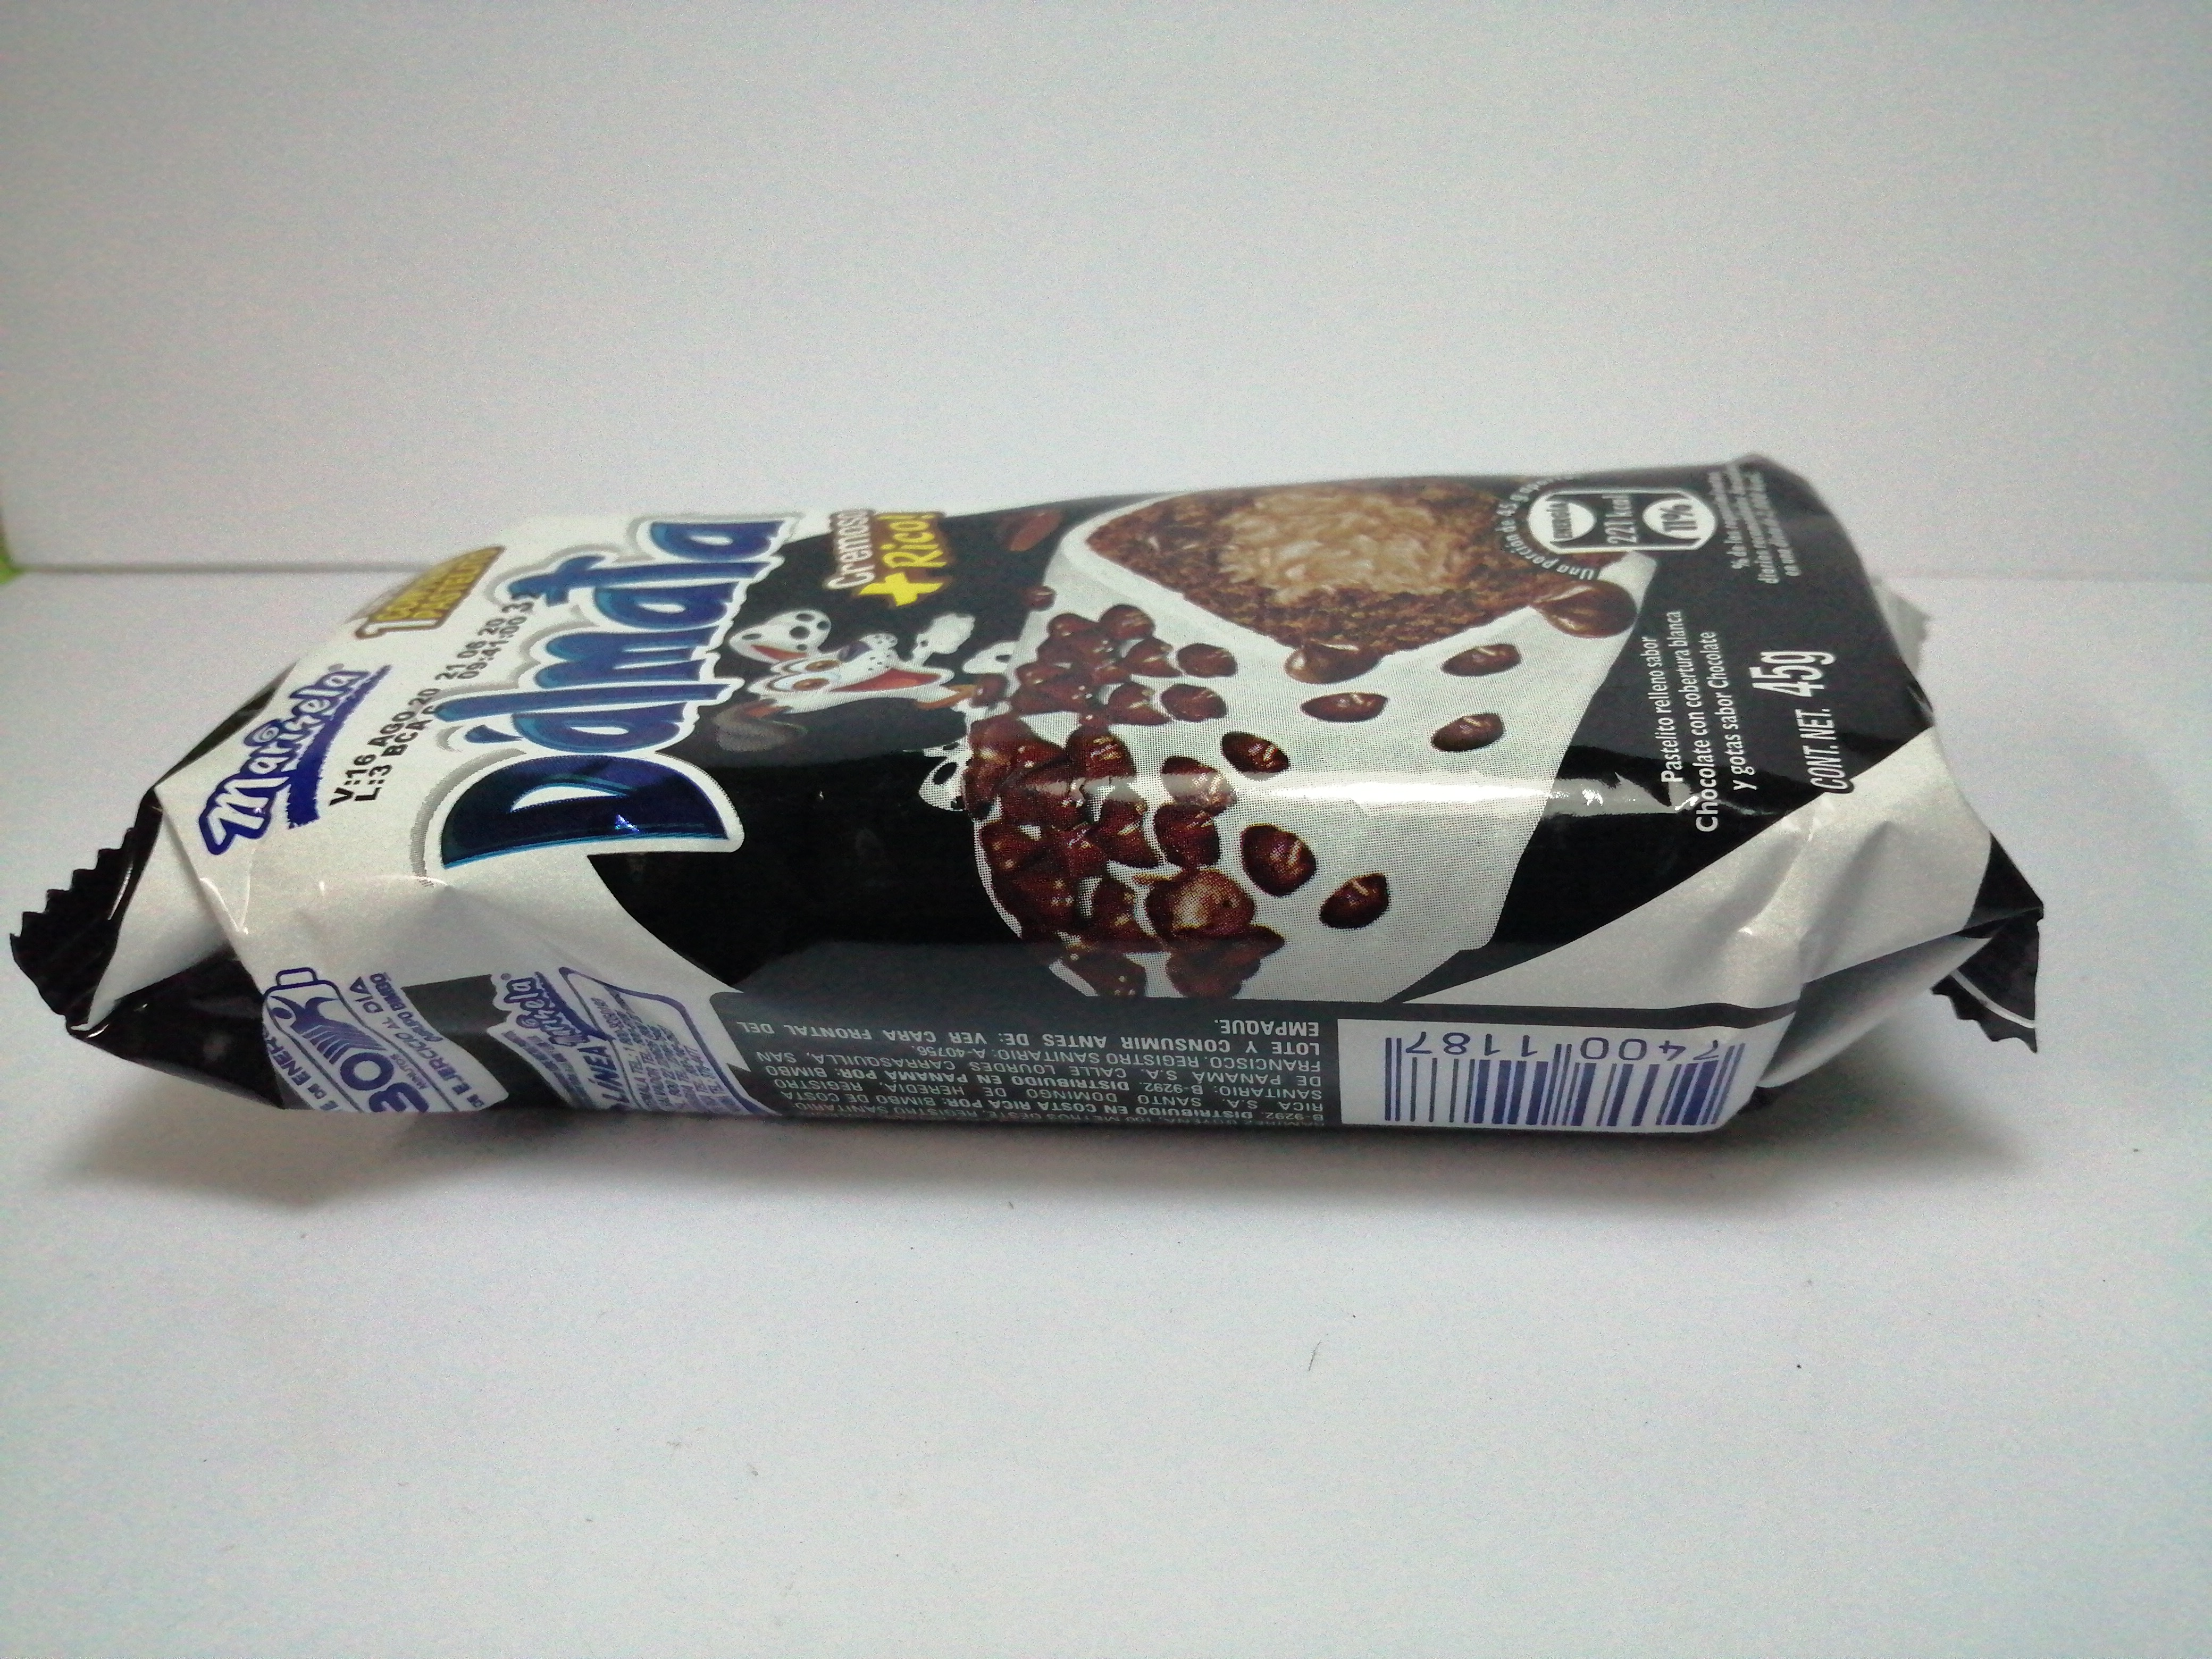dalmata: (23, 430, 2059, 1140)
